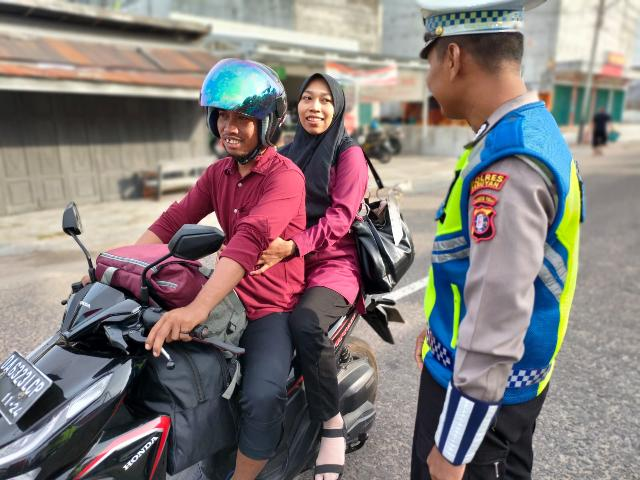helm: (197, 58, 291, 158)
motor: (2, 201, 409, 480)
non-helm: (298, 73, 349, 138)
